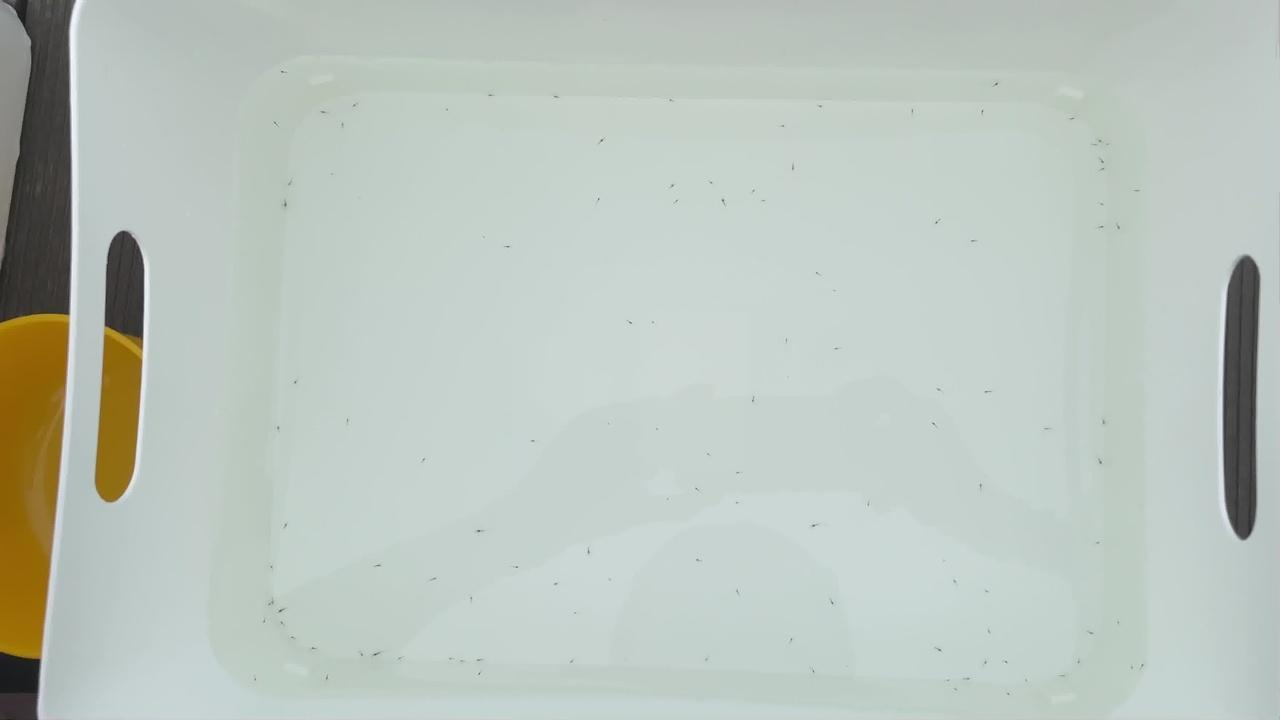shrimp: (1139, 661, 1152, 669), (982, 589, 995, 597), (1039, 428, 1052, 436), (982, 390, 995, 398), (1112, 224, 1125, 232), (1095, 201, 1108, 209), (1131, 190, 1144, 198), (1098, 168, 1111, 176), (1097, 152, 1110, 160), (988, 79, 1001, 87), (318, 107, 331, 115), (276, 69, 289, 77), (621, 318, 634, 326), (776, 340, 789, 348), (832, 346, 845, 354), (290, 378, 303, 386), (602, 423, 615, 431), (702, 451, 715, 459), (785, 634, 798, 642), (689, 556, 702, 564), (701, 656, 714, 664), (476, 655, 489, 663), (352, 511, 365, 519), (265, 561, 278, 569), (1094, 539, 1106, 547), (734, 467, 746, 475), (457, 656, 469, 664), (330, 689, 342, 697), (1111, 618, 1124, 625), (1085, 632, 1098, 639), (1075, 661, 1088, 668), (1020, 678, 1033, 685), (1001, 693, 1014, 700), (960, 676, 973, 683), (950, 685, 963, 692), (944, 676, 957, 683), (982, 660, 995, 667), (1000, 660, 1013, 667), (950, 582, 963, 589), (1094, 459, 1107, 466), (1097, 421, 1110, 428), (976, 486, 989, 493), (929, 421, 942, 428), (936, 389, 949, 396), (964, 239, 977, 246), (1098, 225, 1111, 232), (1103, 140, 1116, 147), (1096, 136, 1109, 143), (1063, 114, 1076, 121), (974, 113, 987, 120), (908, 108, 921, 115), (813, 101, 826, 108), (775, 121, 788, 128), (790, 166, 803, 173), (759, 198, 772, 205), (748, 186, 761, 193), (665, 180, 678, 187), (669, 193, 682, 200), (667, 98, 680, 105), (594, 136, 607, 143), (552, 92, 565, 99), (488, 94, 501, 101), (340, 123, 353, 130), (270, 120, 283, 127), (326, 170, 339, 177), (284, 180, 297, 187), (278, 198, 291, 205), (497, 242, 510, 249), (593, 197, 606, 204), (812, 273, 825, 280), (342, 417, 355, 424), (527, 437, 540, 444), (749, 391, 762, 398), (693, 483, 706, 490), (733, 503, 746, 510), (807, 521, 820, 528), (863, 496, 876, 503), (824, 597, 837, 604), (809, 665, 822, 672), (736, 588, 749, 595), (604, 577, 617, 584), (581, 546, 594, 553), (548, 581, 561, 588), (571, 610, 584, 617), (563, 654, 576, 661), (473, 671, 486, 678), (447, 655, 460, 662), (466, 592, 479, 599), (473, 528, 486, 535), (427, 577, 440, 584), (275, 524, 288, 531), (269, 597, 282, 604), (276, 618, 289, 625), (260, 615, 273, 622), (248, 674, 261, 681), (287, 636, 300, 643), (308, 647, 321, 654), (355, 647, 368, 654), (373, 654, 386, 661), (392, 657, 405, 664), (322, 674, 335, 681), (1128, 659, 1140, 666), (1056, 671, 1068, 678), (933, 646, 945, 653), (983, 629, 995, 636), (928, 215, 940, 222), (1089, 138, 1101, 145), (718, 198, 730, 205), (706, 182, 718, 189), (352, 102, 364, 109), (645, 316, 657, 323), (274, 424, 286, 431), (418, 459, 430, 466), (651, 424, 663, 431), (513, 561, 525, 568), (369, 561, 381, 568), (264, 599, 276, 606), (274, 605, 286, 612)
